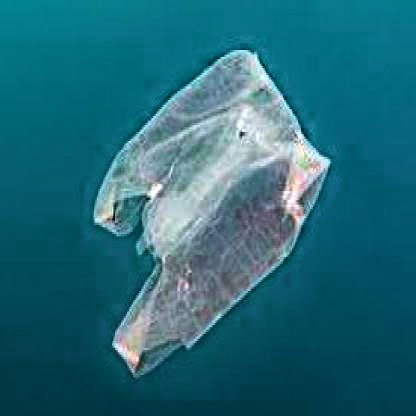pbag: (92, 48, 332, 377)
